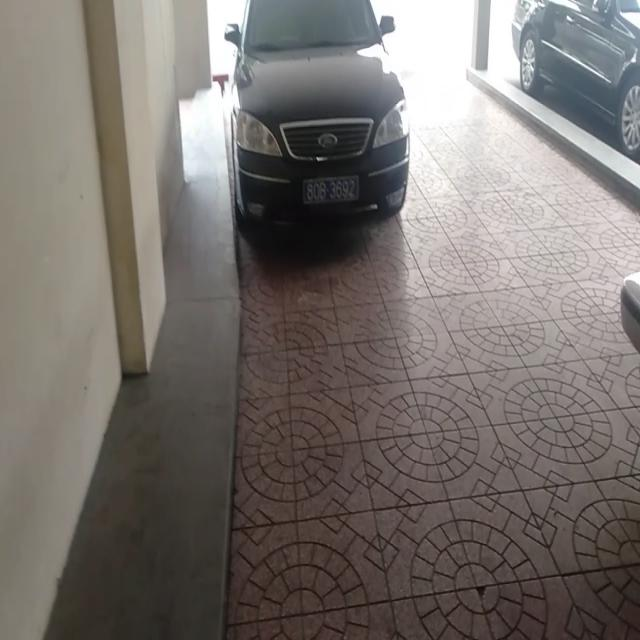bien_xanh: (304, 177, 362, 207)
